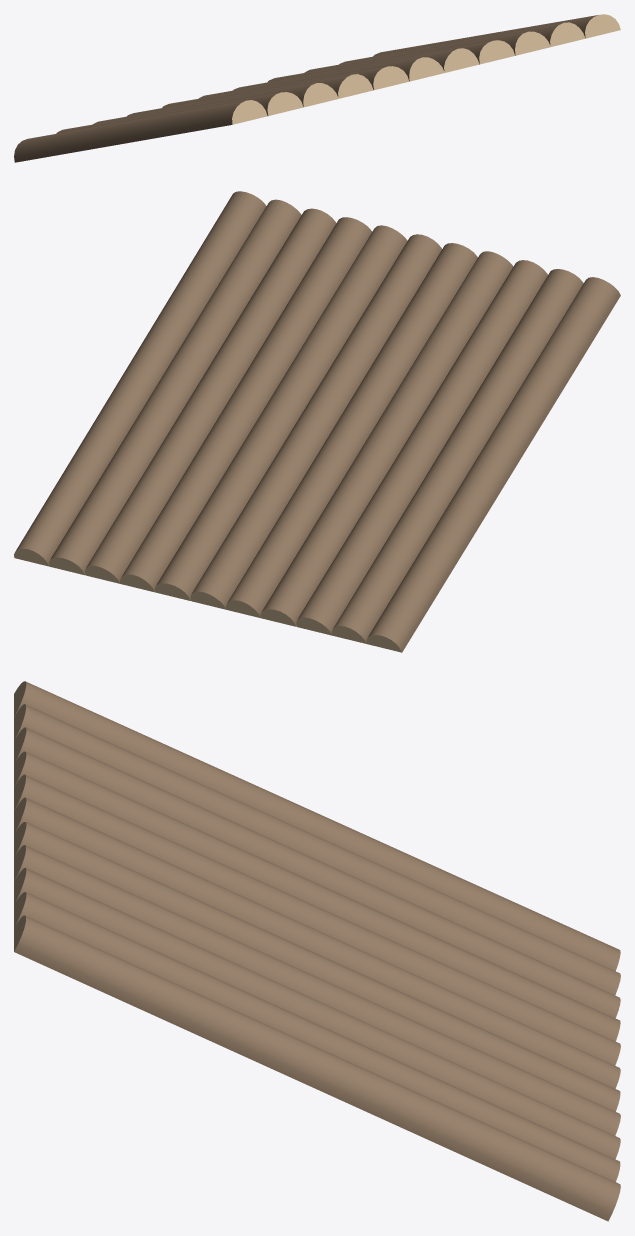
Rendered from log_roof_slope_low.glb.
3 views of the same model, one above another, from view 1: azimuth 30°, elevation 25°; view 2: azimuth 150°, elevation 25°; view 3: azimuth 270°, elevation 25° (orthographic). The views are drawn at different scales.
Visible parts, largest first — view 1: Roof; view 2: Roof; view 3: Roof.
Boxes of the visible parts, x1,y1,x2,y2 form: Roof: (14,14,620,162); Roof: (14,191,620,652); Roof: (14,681,620,1221).
Size of the model in its own units: 3.09 by 1.63 by 3.06.
